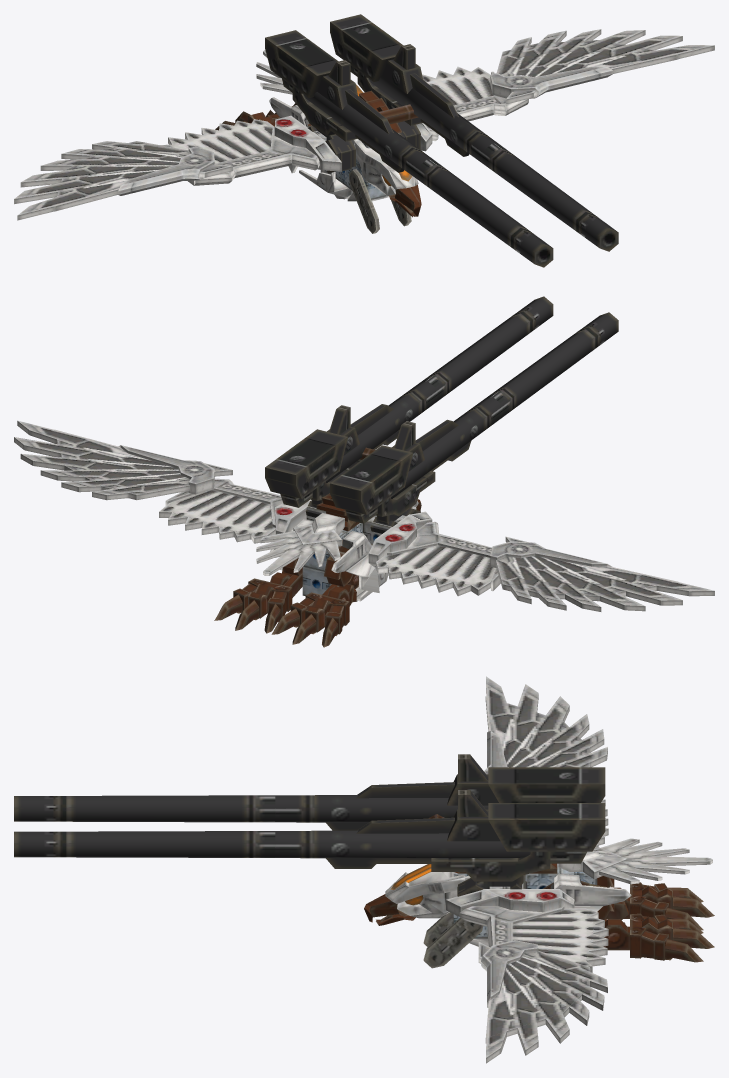
The model's file is BTEG00.fbx.
The picture shows the model from 3 angles, top to bottom: view 1: azimuth 30°, elevation 25°; view 2: azimuth 150°, elevation 25°; view 3: azimuth 270°, elevation 25°; orthographic projection. The views are drawn at different scales.
Parts seen in each view (by area): view 1: Buster, LowerWing_L_Clone_, LowerWing_L, UpperWing_L_Clone_, UpperWing_L, Head, Latch, Cockpit, Cover, Blox, UpperLegCover_L_Clone_, Tail (+1 smaller); view 2: Buster, LowerWing_L, LowerWing_L_Clone_, UpperWing_L_Clone_, UpperWing_L, Tail, Claw_L_Clone_, Claw_L, UpperLegCover_L_Clone_, Blox, Cockpit; view 3: Buster, LowerWing_L, UpperWing_L, LowerWing_L_Clone_, Tail, Head, Claw_L, Claw_L_Clone_, Latch, UpperLegCover_L, Blox, Foot_L.
Boxes of the visible parts, x1,y1,x2,y2 form: Buster: (265,14,618,267); LowerWing_L_Clone_: (14,141,232,220); LowerWing_L: (490,29,714,104); UpperWing_L_Clone_: (160,115,341,185); UpperWing_L: (416,66,528,151); Head: (351,133,421,217); Latch: (349,169,411,233); Cockpit: (355,84,418,133); Cover: (299,170,388,201); Blox: (307,125,387,199); UpperLegCover_L_Clone_: (269,97,309,173); Tail: (256,50,292,94); Buster: (265,296,618,533); LowerWing_L: (14,420,232,500); LowerWing_L_Clone_: (490,536,714,611); UpperWing_L_Clone_: (368,511,500,596); UpperWing_L: (159,478,311,543); Tail: (256,513,344,575); Claw_L_Clone_: (271,592,349,647); Claw_L: (214,578,292,633); UpperLegCover_L_Clone_: (331,531,379,592); Blox: (302,506,406,596); Cockpit: (316,447,374,531); Buster: (14,754,605,896); LowerWing_L: (478,940,607,1063); UpperWing_L: (446,889,608,972); LowerWing_L_Clone_: (484,676,607,774); Tail: (558,838,712,884); Head: (364,864,470,925); Claw_L: (630,913,714,962); Claw_L_Clone_: (630,882,714,930); Latch: (423,912,483,968); UpperLegCover_L: (550,873,631,911); Blox: (453,863,597,938); Foot_L: (603,919,629,950).
Bounding box in the file's own units: 268 × 60.33 × 208.
Materials: 2 (2 with a texture image).
